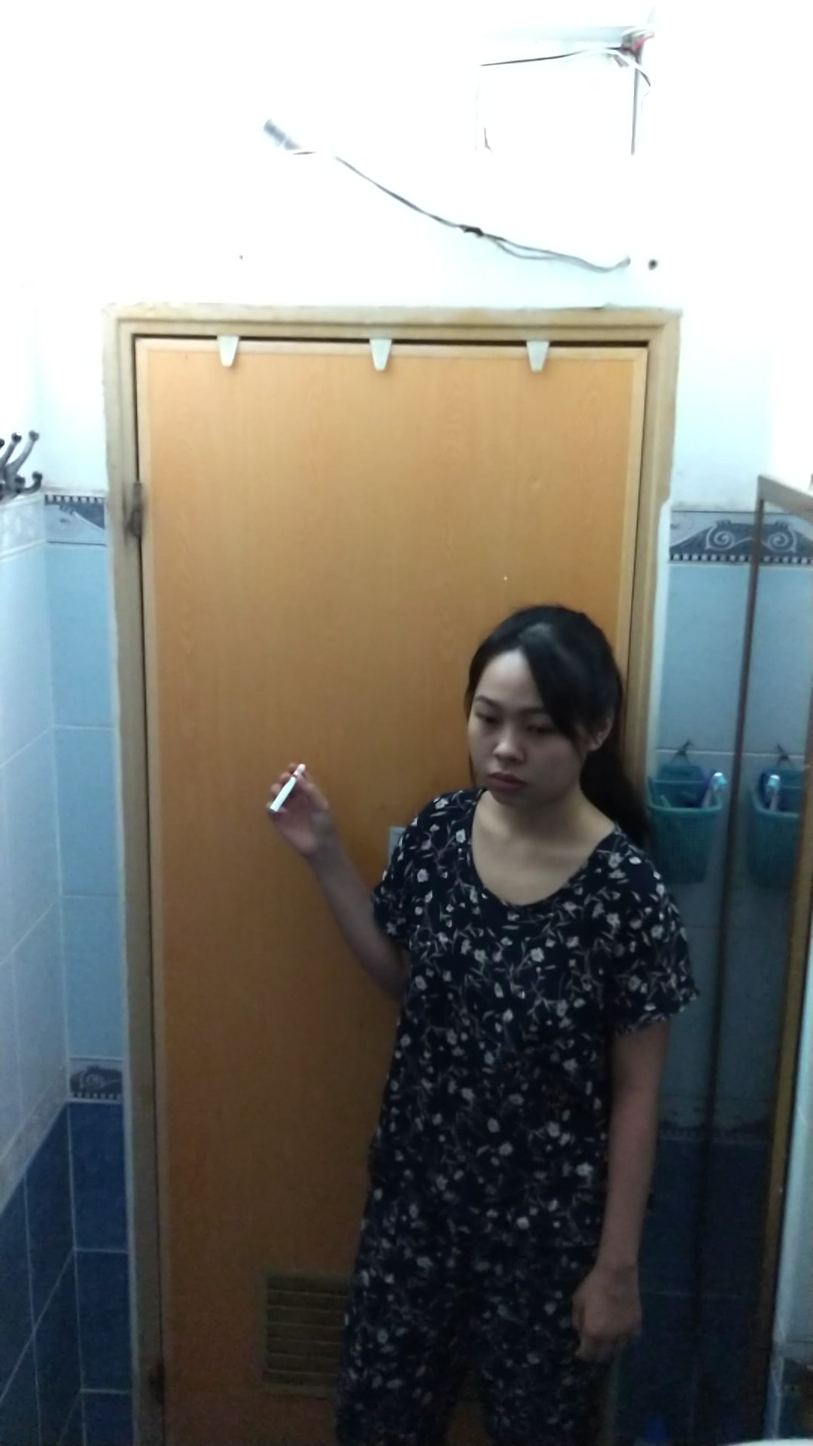cigarette: (267, 777, 299, 818)
person: (244, 582, 715, 1438)
